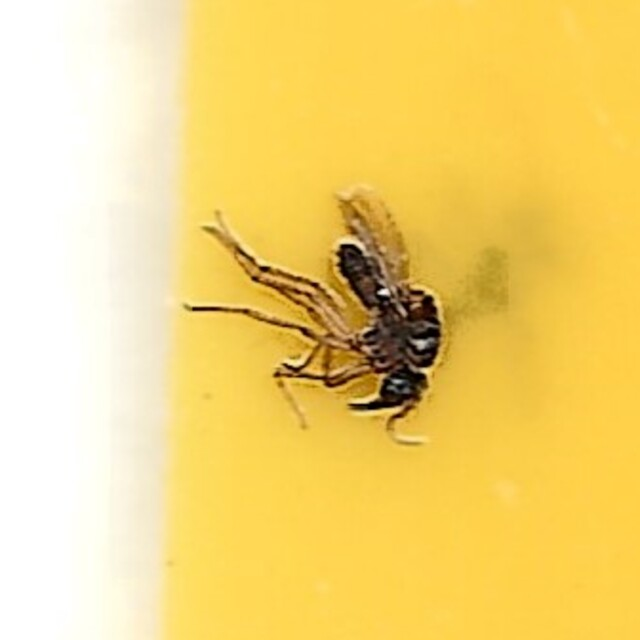Brachycera: (190, 202, 450, 438)
